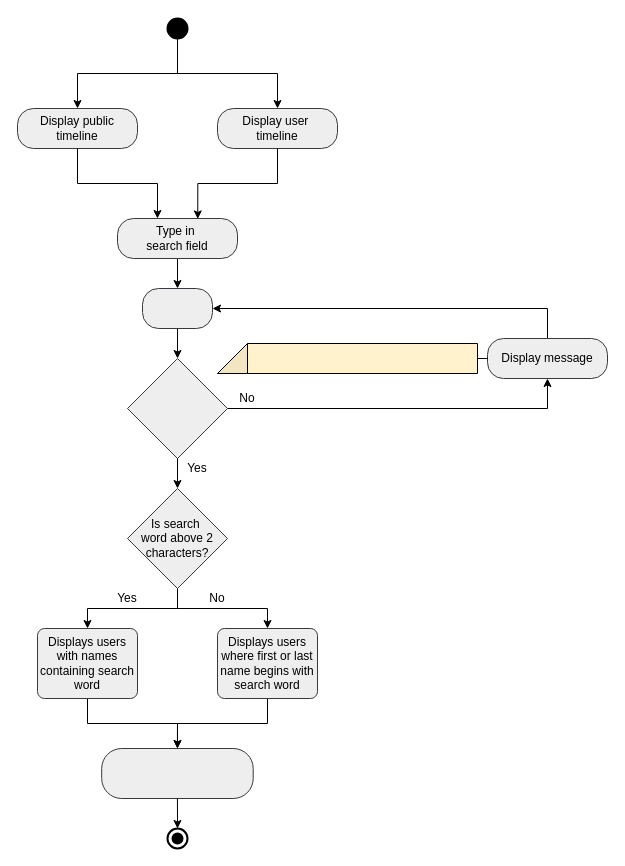
The diagram is 625 pixels wide and 866 high, and some of its shapes have lost their labels. The box of each missing label's shape, as (x1, y1, x2, y2) in pixels:
Is search word valid?: (126, 358, 228, 458)
No authors found matching your search.: (216, 342, 478, 374)
Press username to redirect to their user timeline: (101, 748, 253, 798)
Search: (142, 288, 212, 328)
